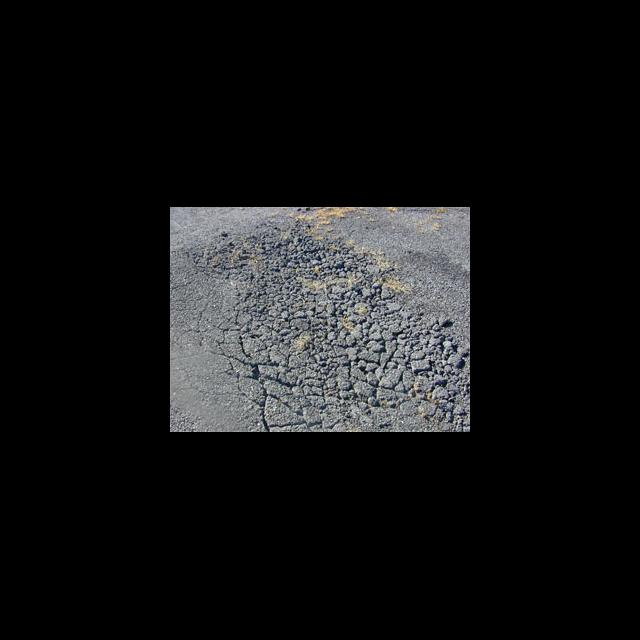retak_kulit_buaya: (199, 250, 464, 428)
